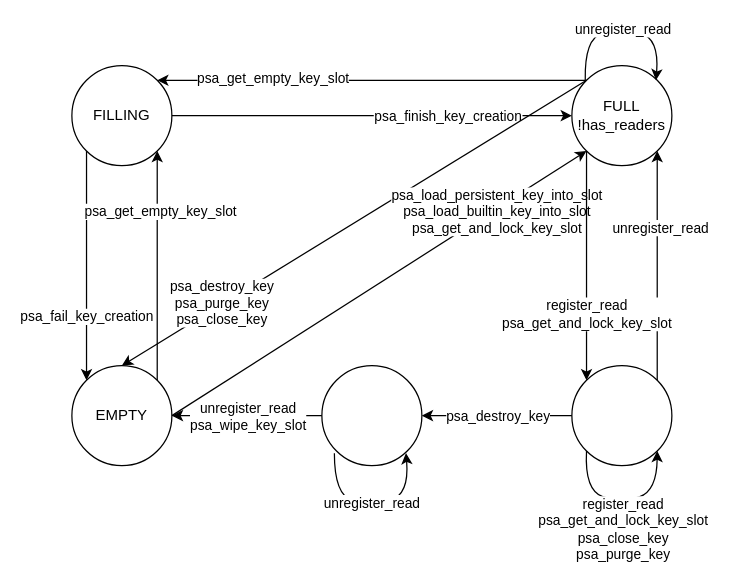
The diagram is 731 pixels wide and 584 high, and some of its shapes have lost their labels. The shapes that lost their labels are listed below. From the top down, each one's centre as x and y in pixels, then its label:
point 371,415: PENDING DELETION
point 621,415: FULL has_readers
